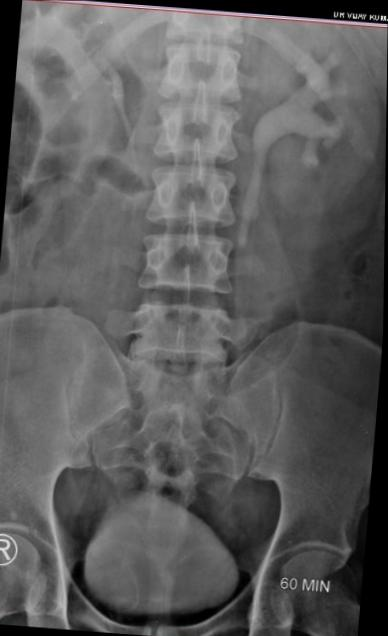bladder: (77, 484, 254, 631)
left kidney: (245, 19, 387, 225)
vertebrae: (155, 41, 248, 105)
